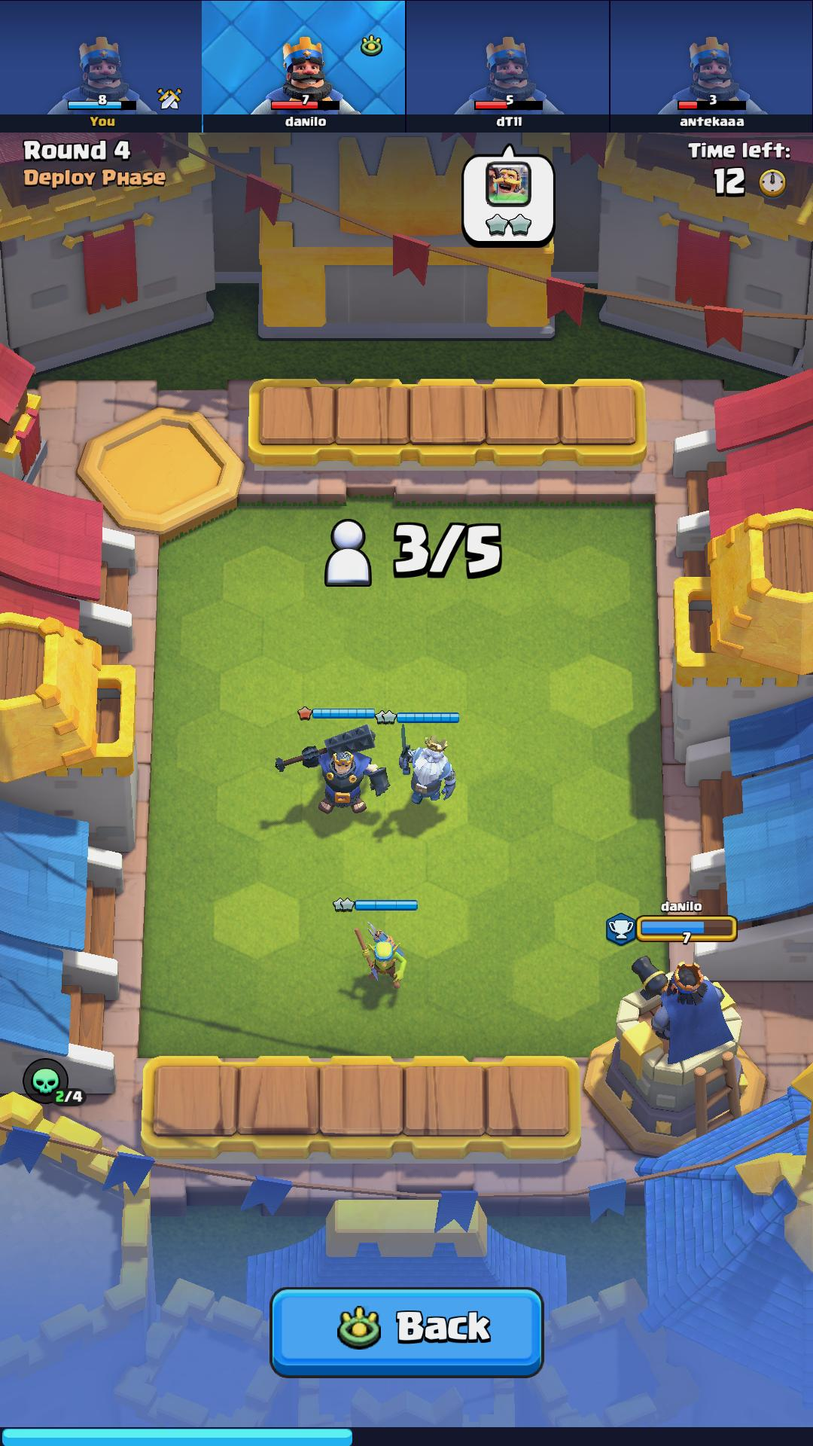ghost: (385, 719, 458, 810)
king: (266, 715, 396, 833)
spear: (341, 924, 414, 991)
